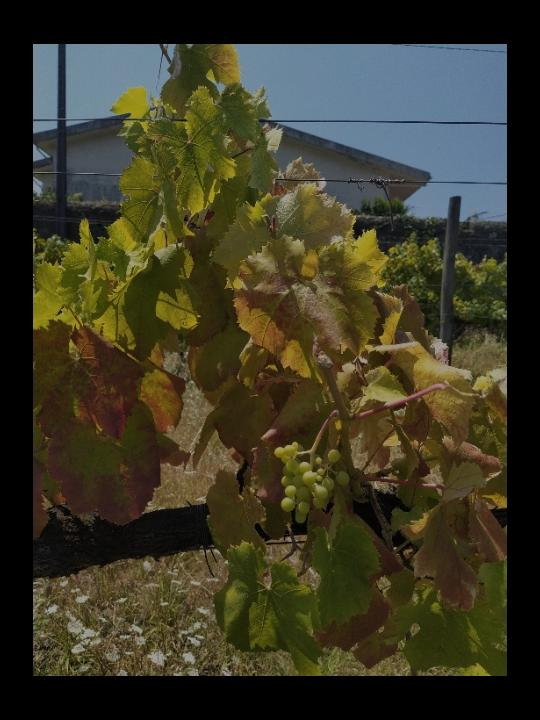grape: (272, 438, 350, 524)
